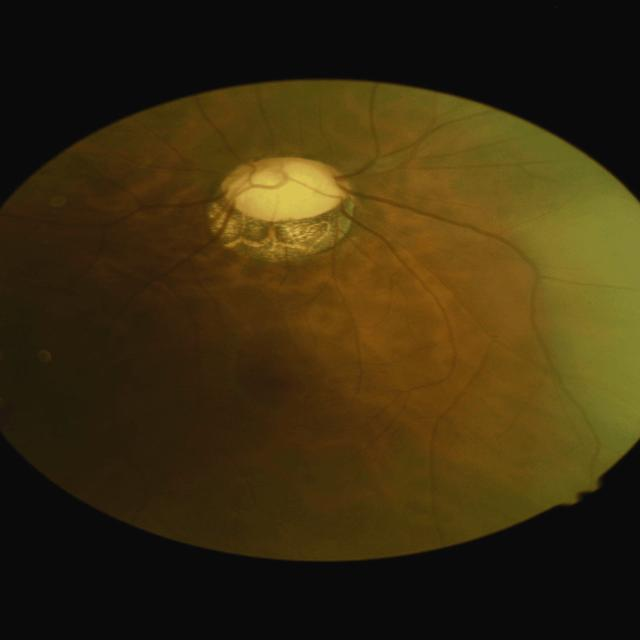cup: (230, 166, 336, 212)
disk: (222, 156, 347, 222)
